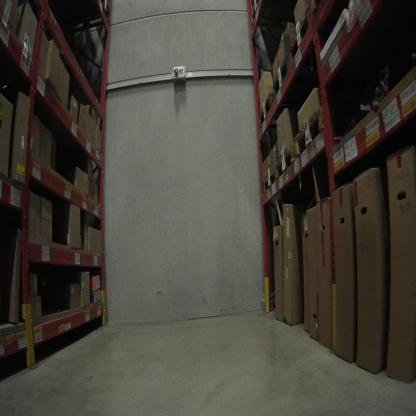pallet: (295, 102, 372, 161), (271, 54, 337, 99), (272, 137, 335, 180), (260, 91, 336, 126), (40, 2, 112, 34), (249, 1, 304, 25), (287, 9, 315, 54), (261, 169, 291, 192)
